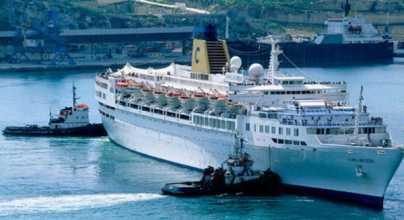otherboat: (161, 137, 285, 200), (3, 92, 106, 138)
youlun: (88, 54, 404, 204)
